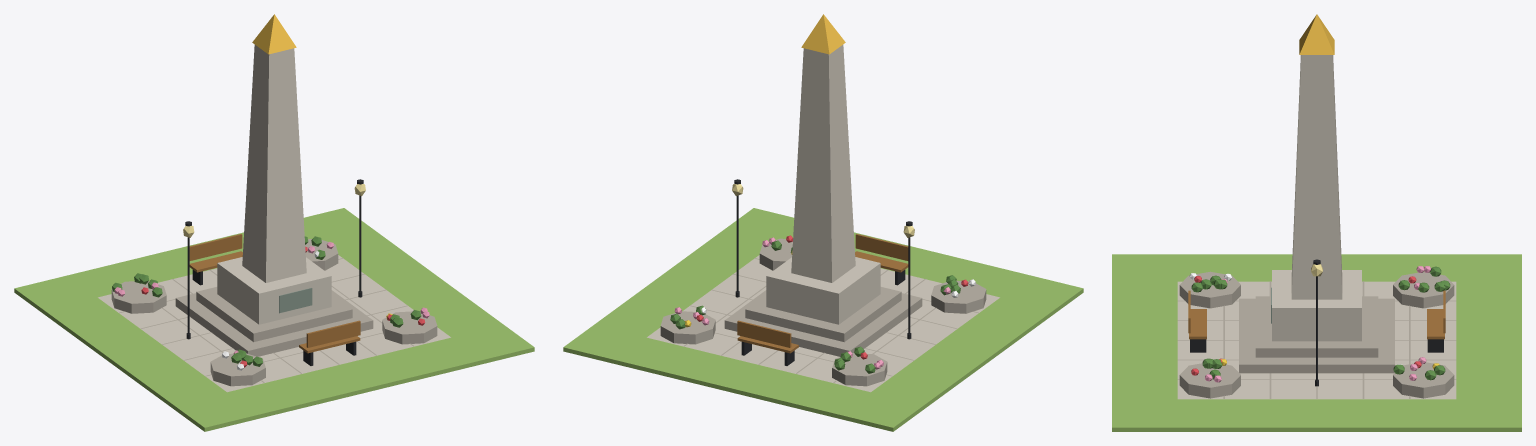
Rendered from Park_anit_Hafif.fbx.
3 views of the same model, side by side, from view 1: azimuth 30°, elevation 25°; view 2: azimuth 150°, elevation 25°; view 3: azimuth 270°, elevation 25° (orthographic). The views are drawn at different scales.
Visible parts, largest first — view 1: Park_anit_Hafif; view 2: Park_anit_Hafif; view 3: Park_anit_Hafif.
Part boxes in pixels (box(x1,y1,x2,y2)): Park_anit_Hafif: box(14, 14, 534, 431); Park_anit_Hafif: box(563, 14, 1083, 431); Park_anit_Hafif: box(1112, 14, 1521, 431).
Bounding box in the file's own units: 10 × 8.92 × 10.
